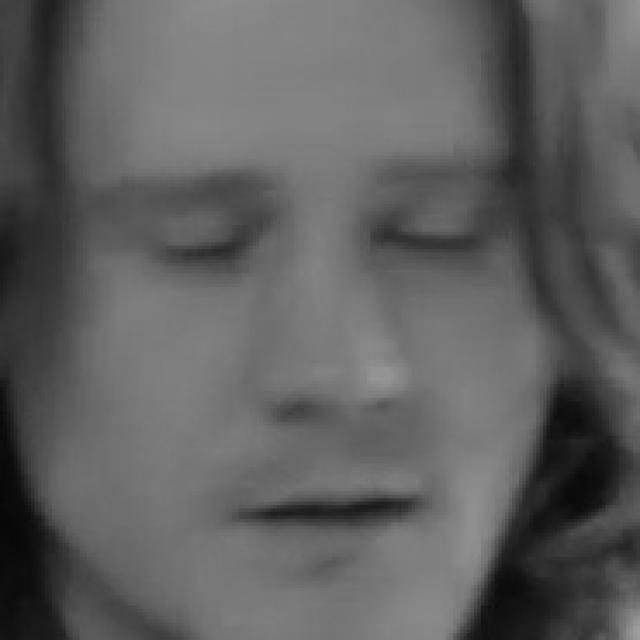real: (13, 29, 525, 640), (96, 184, 536, 288)
